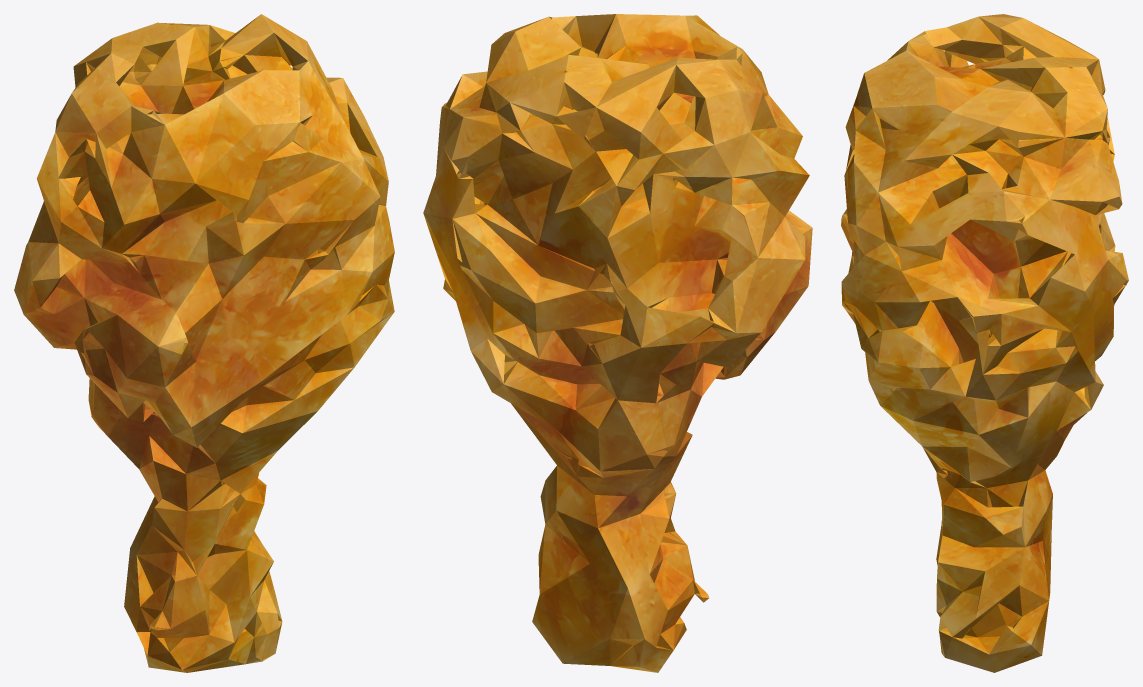
File: chicken.glb
3 renders of one model, left to right at view 1: azimuth 30°, elevation 25°; view 2: azimuth 150°, elevation 25°; view 3: azimuth 270°, elevation 25°, orthographic. The views are drawn at different scales.
Visible parts, largest first — view 1: Mesh; view 2: Mesh; view 3: Mesh.
Boxes of the visible parts, left/top/right/bottom form: Mesh: left=14, top=14, right=394, bottom=672; Mesh: left=423, top=14, right=812, bottom=672; Mesh: left=841, top=14, right=1128, bottom=672.
Size of the model in its own units: 0.9534 by 1.69 by 0.7326.
1 material, 1 textured.
